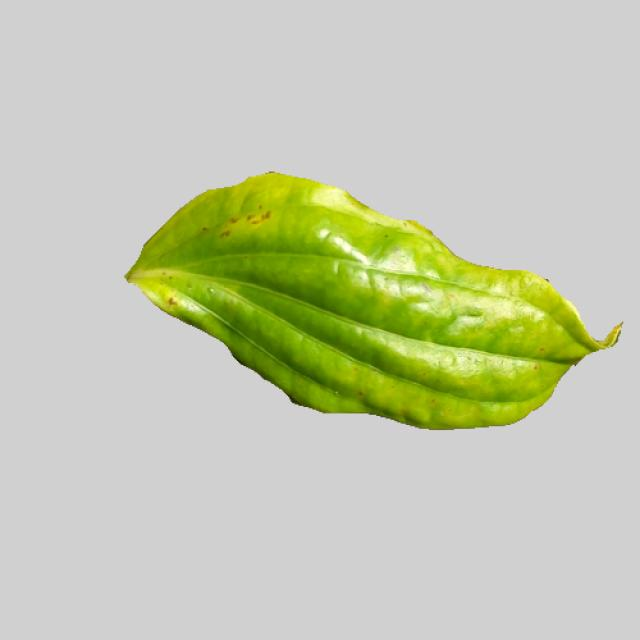yellow-mottle-virus: (119, 169, 620, 430)
